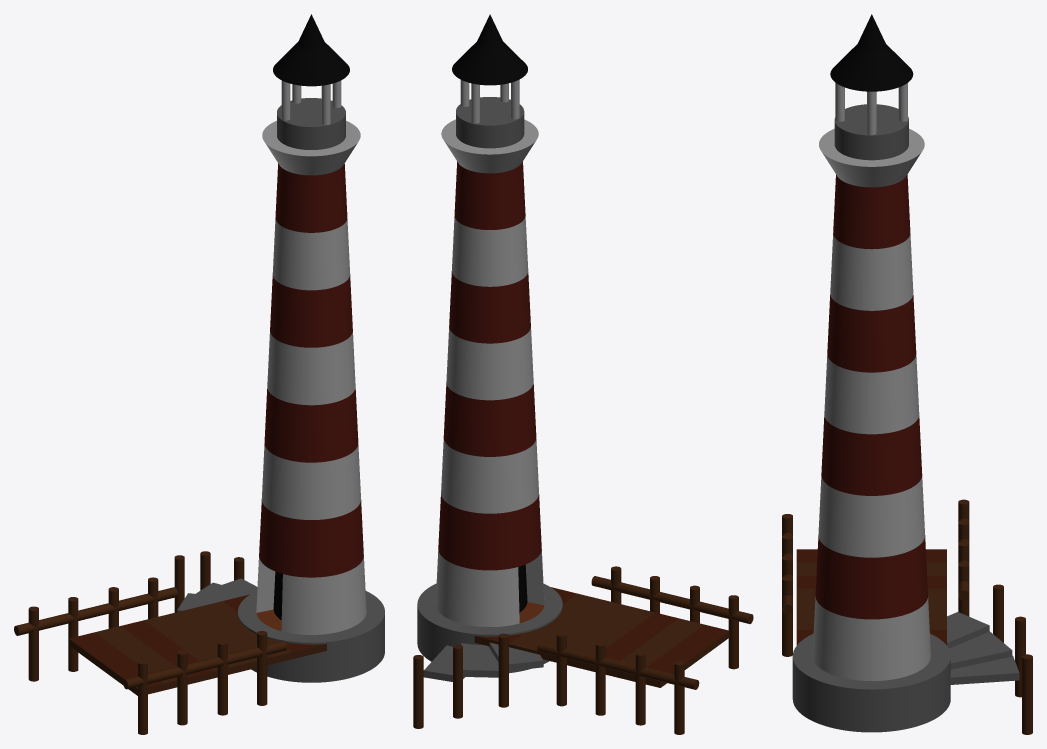
3 views of the same model, side by side, from view 1: azimuth 30°, elevation 25°; view 2: azimuth 150°, elevation 25°; view 3: azimuth 270°, elevation 25° (orthographic). The views are drawn at different scales.
Parts seen in each view (by area): view 1: 塔身, 平台, 栅栏局部.001, 栅栏局部, 塔顶, 台阶, 塔顶柱, 楼梯栅栏; view 2: 塔身, 平台, 栅栏局部, 栅栏局部.001, 塔顶, 台阶, 楼梯栅栏, 塔顶柱; view 3: 塔身, 台阶, 平台, 塔顶, 楼梯栅栏, 栅栏局部.001, 栅栏局部, 塔顶柱.
Part boxes in pixels (x1,y1,x2,y2): 塔身: (238,98,384,682); 平台: (68,594,326,695); 栅栏局部.001: (123,631,286,734); 栅栏局部: (14,577,177,681); 塔顶: (273,14,349,86); 台阶: (177,578,257,611); 塔顶柱: (281,80,341,124); 楼梯栅栏: (174,551,244,612); 塔身: (417,97,562,673); 平台: (474,587,729,687); 栅栏局部: (537,632,699,734); 栅栏局部.001: (591,566,753,669); 塔顶: (452,14,527,85); 台阶: (423,642,543,681); 楼梯栅栏: (413,633,508,728); 塔顶柱: (460,79,519,123); 塔身: (792,104,950,732); 台阶: (947,612,1019,684); 平台: (796,549,946,645); 塔顶: (830,14,913,91); 楼梯栅栏: (993,584,1032,734); 栅栏局部.001: (782,514,792,656); 栅栏局部: (958,499,969,616); 塔顶柱: (835,83,907,135).
Bounding box in the file's own units: 2479 × 5019 × 1588.
